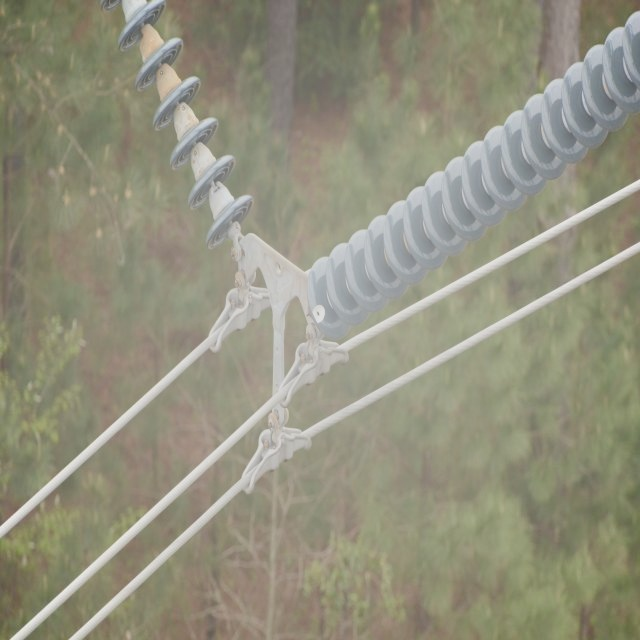broken: (311, 299, 326, 323)
insulator: (306, 8, 640, 338), (102, 0, 252, 254)
